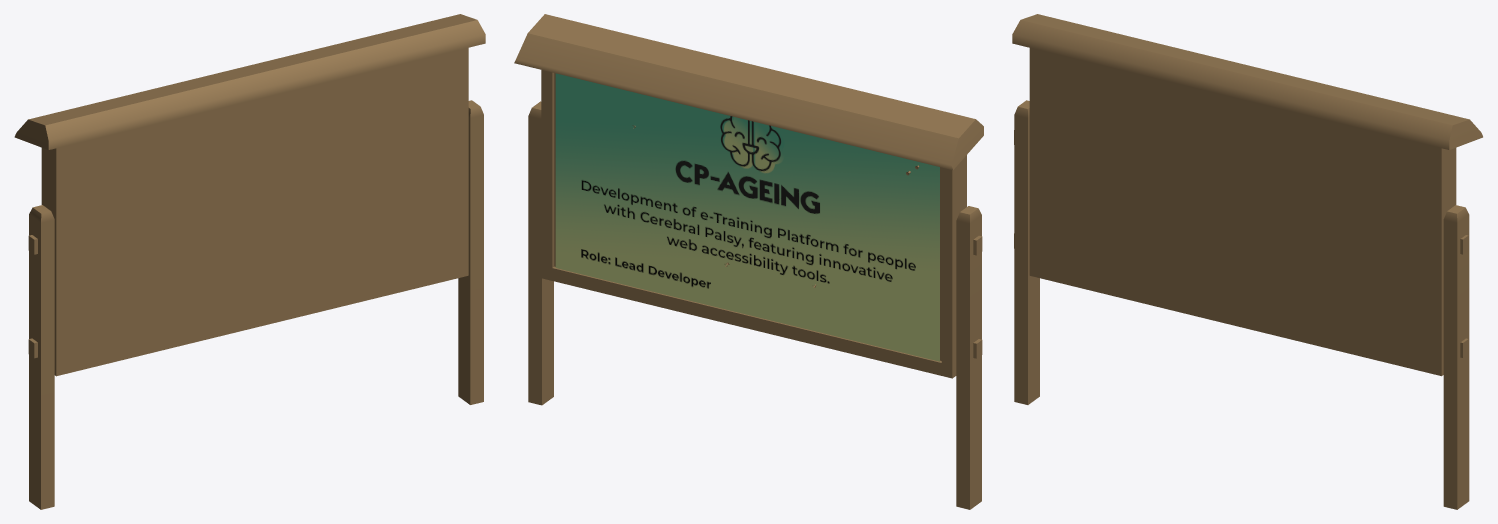
The model's file is project2.gltf.
3 renders of one model, left to right at view 1: azimuth 30°, elevation 25°; view 2: azimuth 150°, elevation 25°; view 3: azimuth 330°, elevation 25°, orthographic.
Parts seen in each view (by area): view 1: cpageing; view 2: Linkedin-Logo-300x188, cpageing; view 3: cpageing.
Boxes of the visible parts, x1=… form: cpageing: x1=14, y1=14, x2=485, y2=509; Linkedin-Logo-300x188: x1=555, y1=73, x2=939, y2=361; cpageing: x1=514, y1=14, x2=983, y2=509; cpageing: x1=1012, y1=14, x2=1482, y2=509.
Bounding box in the file's own units: 12.13 × 9.88 × 1.52.
Materials: 2 (1 with a texture image).
